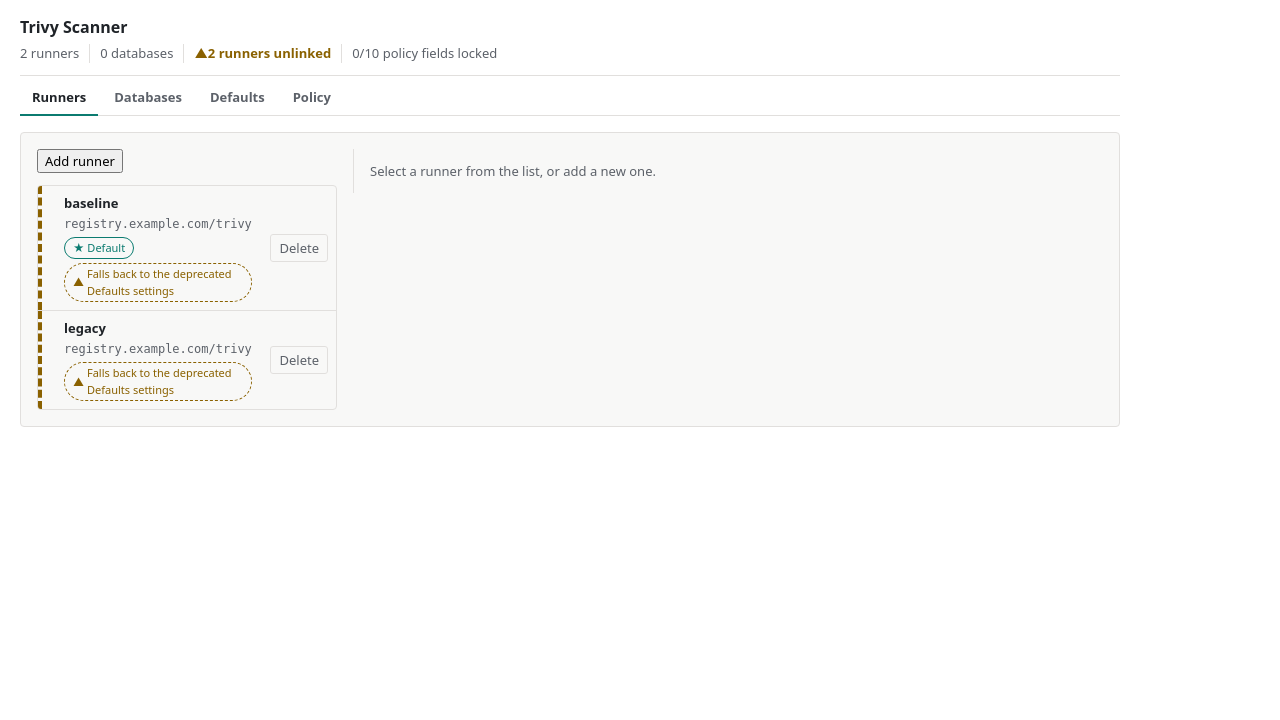
Test: App › opens the selected runner in the detail pane, prefilled with its own values
This screenshot has width=1280, height=720.
Expected: the text "legacy" is shown, [64,319,106,337]
Click the button with aria-label "edit legacy". click: (158, 360)
box: [54,311,262,409]
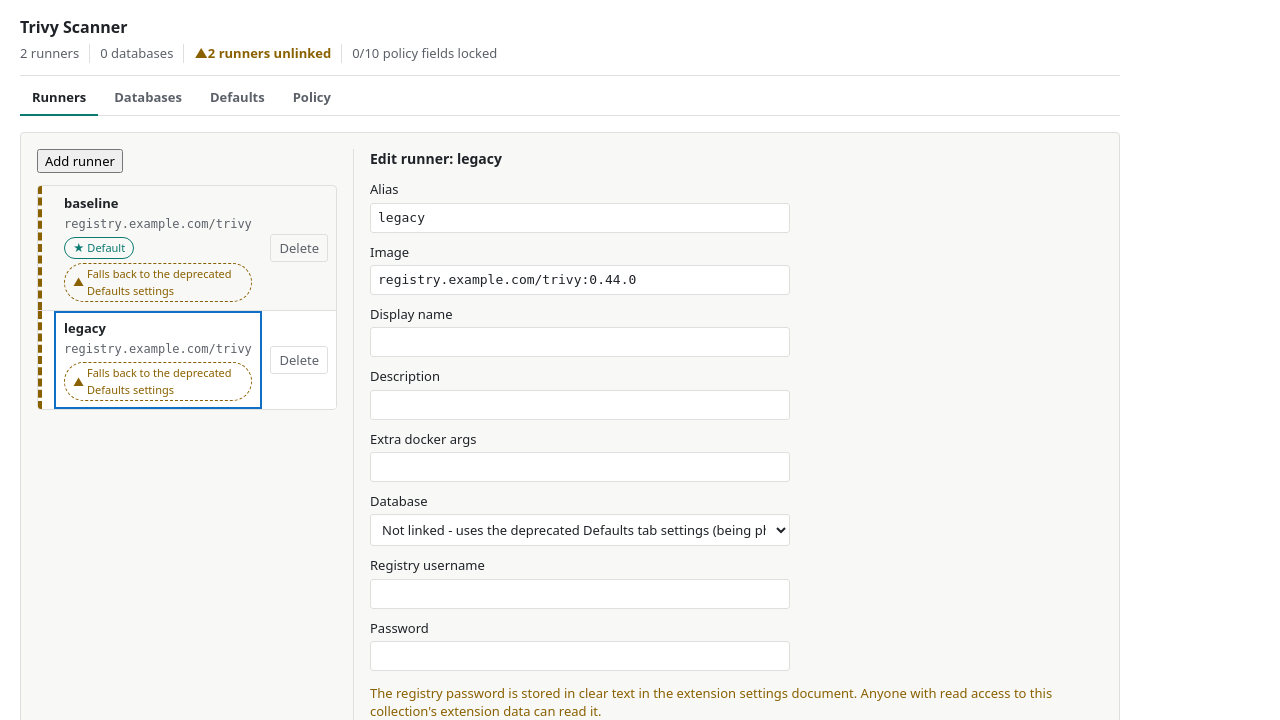
Expected: the field labelled "Alias" holds "legacy", [370,202,790,233]
Expected: the field labelled "Image" holds "registry.example.com/trivy:0.44.0", [370,265,790,295]
